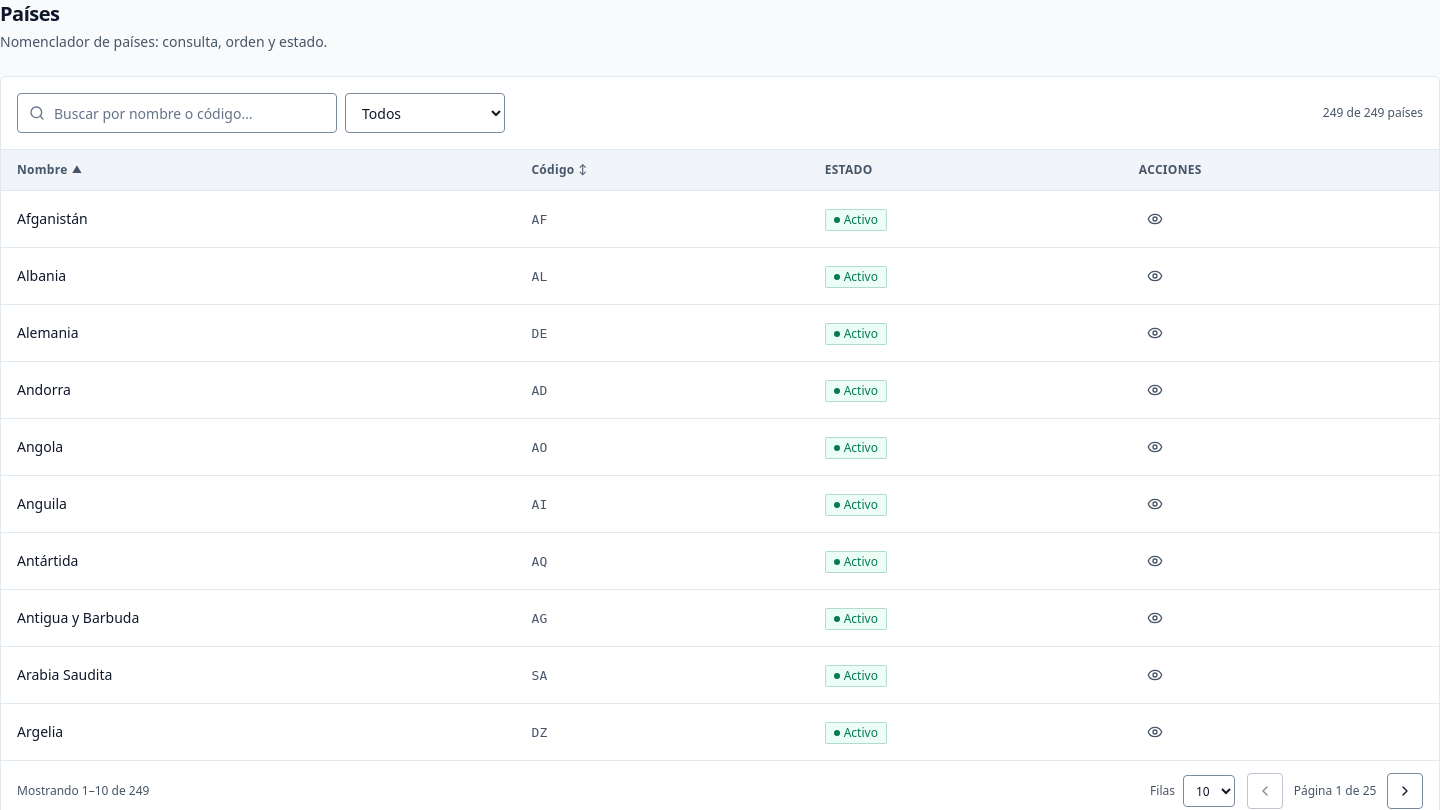
CountriesPage · detalle › abre el detalle de la fila sin pedir el endpoint
Expected: the text "Mostrando 1–10 de 249" is shown, left=17, top=783, right=149, bottom=799
Click the button named "ver afganistán": (1155, 219) left=1139, top=203, right=1171, bottom=235
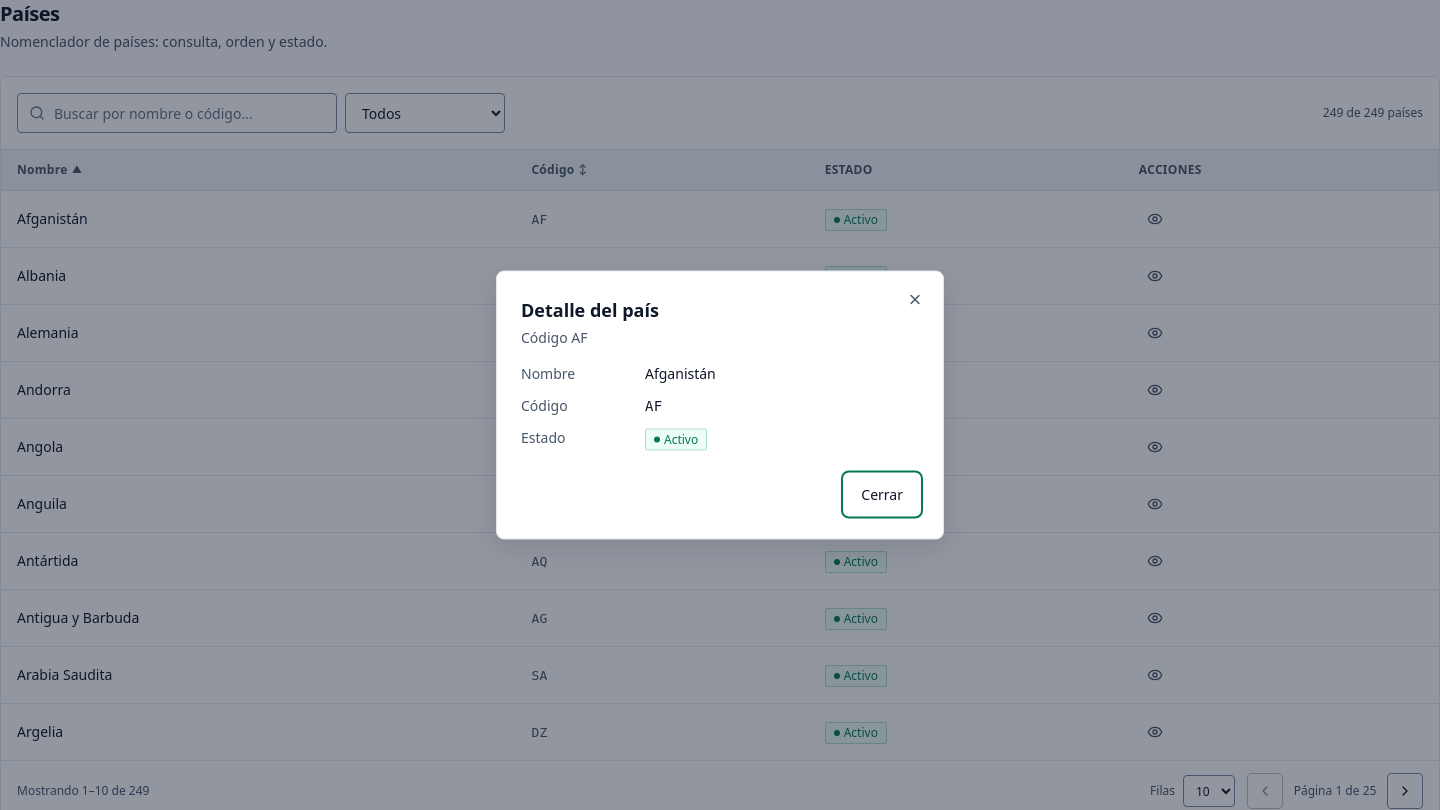
Expected: the heading "Detalle del país" is shown, left=521, top=298, right=659, bottom=322
Expected: the text "Afganistán" is shown, left=645, top=364, right=716, bottom=382
